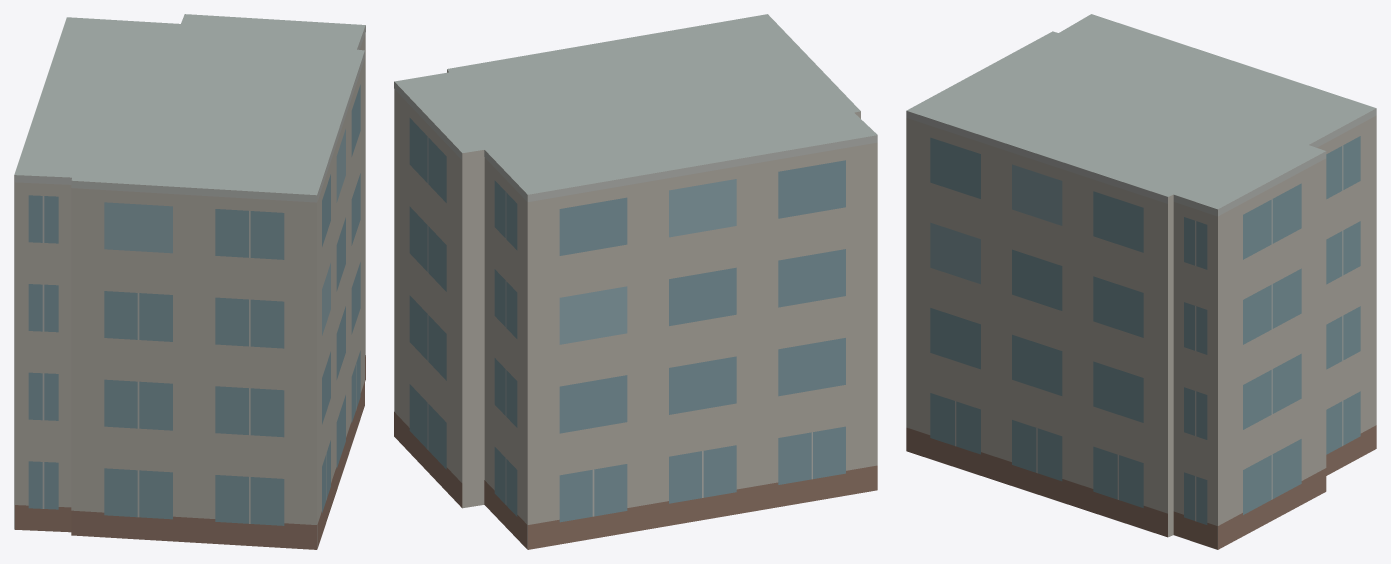
File: survey-upis-32656149.glb
The picture shows the model from 3 angles, left to right: view 1: azimuth 30°, elevation 25°; view 2: azimuth 150°, elevation 25°; view 3: azimuth 270°, elevation 25°; orthographic projection. The views are drawn at different scales.
Parts seen in each view (by area): view 1: survey-upis-32656149.tmp; view 2: survey-upis-32656149.tmp; view 3: survey-upis-32656149.tmp.
Part boxes in pixels (x1,y1,x2,y2): survey-upis-32656149.tmp: (14, 14, 365, 549); survey-upis-32656149.tmp: (394, 14, 877, 549); survey-upis-32656149.tmp: (906, 14, 1376, 549).
Size of the model in its own units: 14.41 by 11.7 by 14.66.
